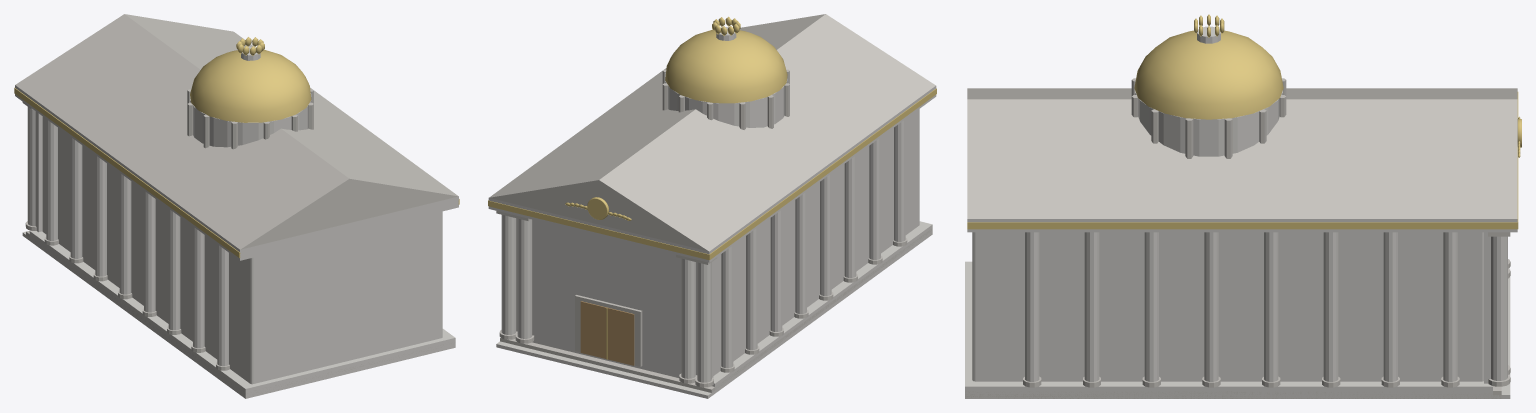
File: centro-hall-cae02108.glb
3 views of the same model, side by side, from view 1: azimuth 30°, elevation 25°; view 2: azimuth 150°, elevation 25°; view 3: azimuth 270°, elevation 25° (orthographic). The views are drawn at different scales.
Visible parts, largest first — view 1: centro_hall_body, centro_hall_glow; view 2: centro_hall_body, centro_hall_glow; view 3: centro_hall_body, centro_hall_glow.
Boxes of the visible parts, bbox=[...] form: centro_hall_body: bbox=[15, 14, 458, 398]; centro_hall_glow: bbox=[14, 37, 459, 257]; centro_hall_body: bbox=[488, 14, 936, 398]; centro_hall_glow: bbox=[488, 16, 936, 260]; centro_hall_body: bbox=[965, 26, 1517, 398]; centro_hall_glow: bbox=[967, 14, 1521, 229].
Bounding box in the file's own units: 12.48 × 14.03 × 22.37.
